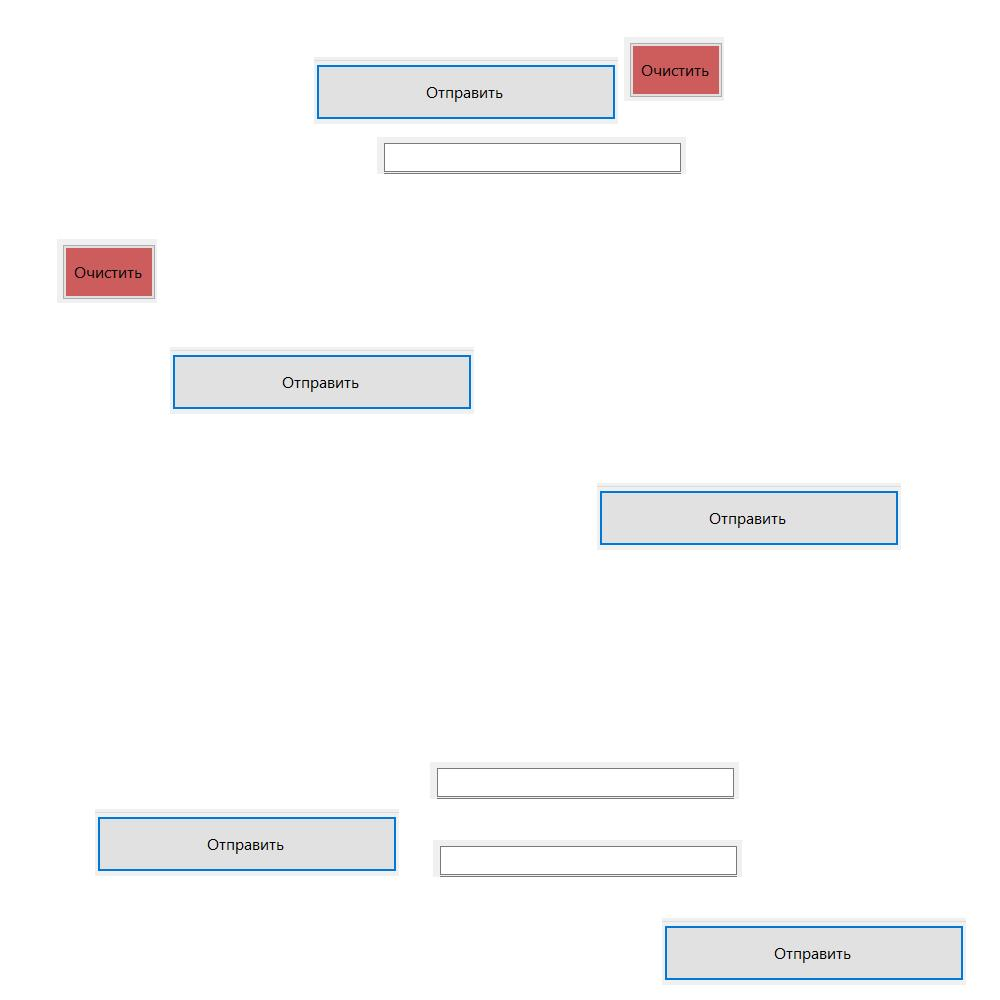Button: (662, 918, 966, 985), (314, 57, 618, 124), (170, 347, 474, 414), (597, 483, 901, 550), (95, 809, 399, 876), (624, 37, 724, 101), (57, 239, 157, 303)
EditText-: (377, 137, 686, 174), (430, 762, 739, 799), (433, 840, 742, 877)
